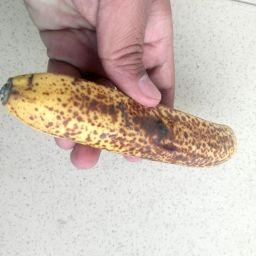banana: (0, 70, 238, 169)
